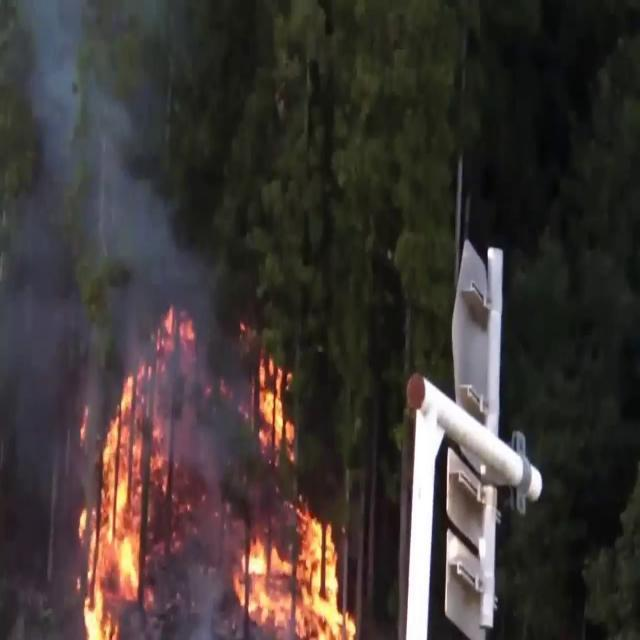Fire: (70, 360, 170, 638), (230, 490, 360, 637), (251, 342, 297, 453)
Smoke: (0, 0, 216, 468)
